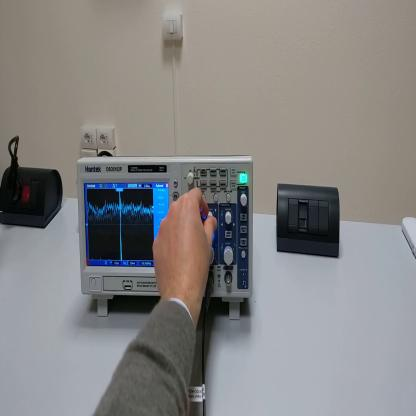hand: (152, 189, 217, 312)
oscilloscope: (75, 148, 257, 321)
socket: (2, 166, 65, 231)
